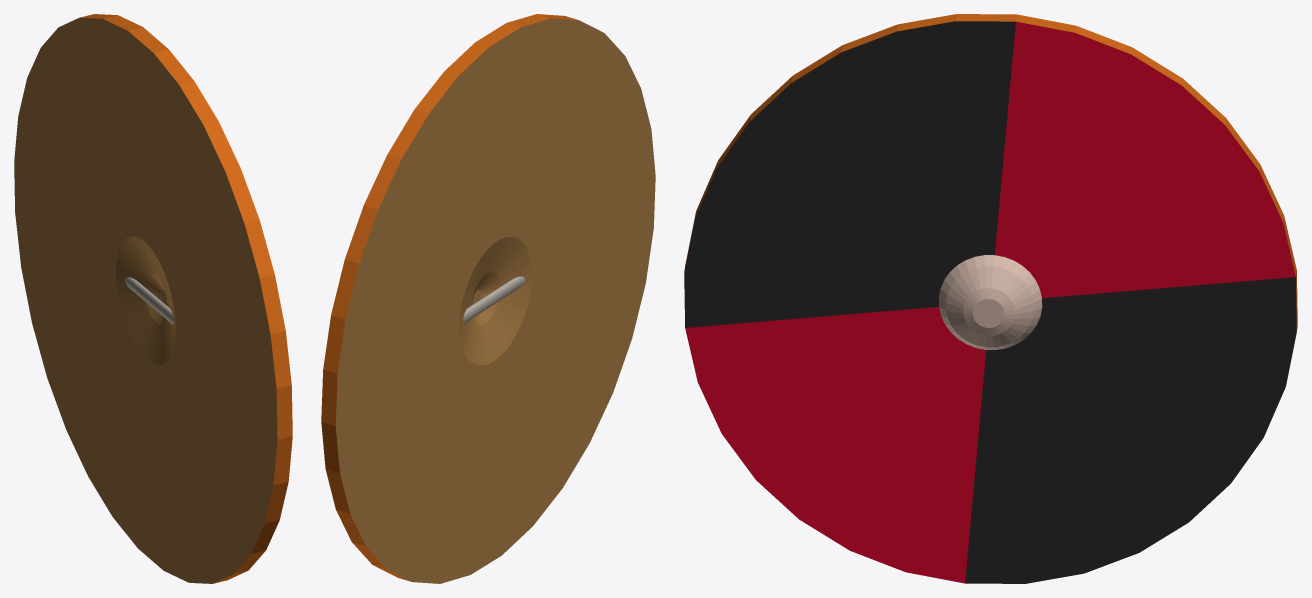
Rendered from VikingShield.fbx.
3 renders of one model, left to right at view 1: azimuth 30°, elevation 25°; view 2: azimuth 150°, elevation 25°; view 3: azimuth 270°, elevation 25°, orthographic. The views are drawn at different scales.
Visible parts, largest first — view 1: Circle, Circle.004, Cylinder; view 2: Circle, Circle.004, Cylinder; view 3: Circle.002, Circle.003, Circle.001, Circle.004.
Boxes of the visible parts, x1,y1,x2,y2 form: Circle: (14, 17, 277, 583); Circle.004: (80, 14, 292, 583); Cylinder: (125, 277, 173, 324); Circle: (335, 18, 655, 583); Circle.004: (321, 14, 578, 581); Cylinder: (463, 276, 524, 322); Circle.002: (684, 21, 1296, 583); Circle.003: (685, 21, 1295, 583); Circle.001: (938, 255, 1042, 349); Circle.004: (684, 14, 1297, 331).
Bounding box in the file's own units: 21.31 × 199 × 199.
